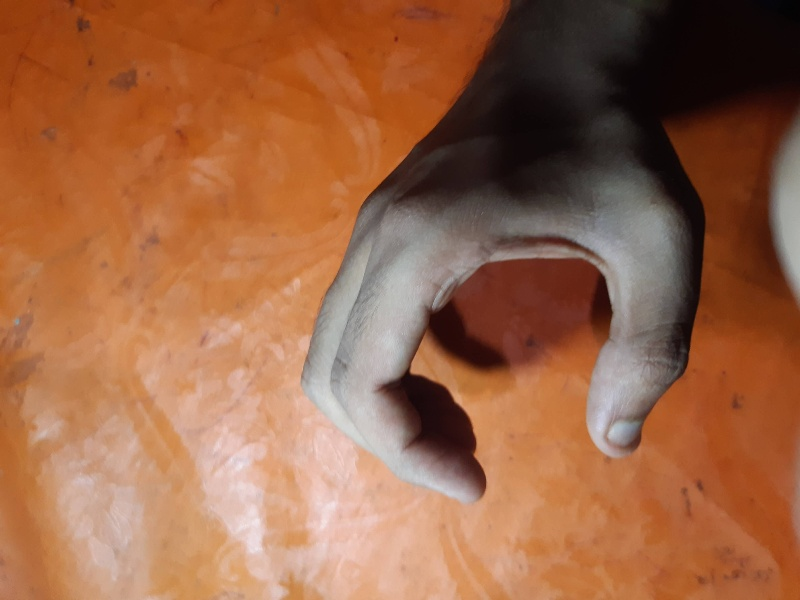one: (284, 95, 731, 520)
